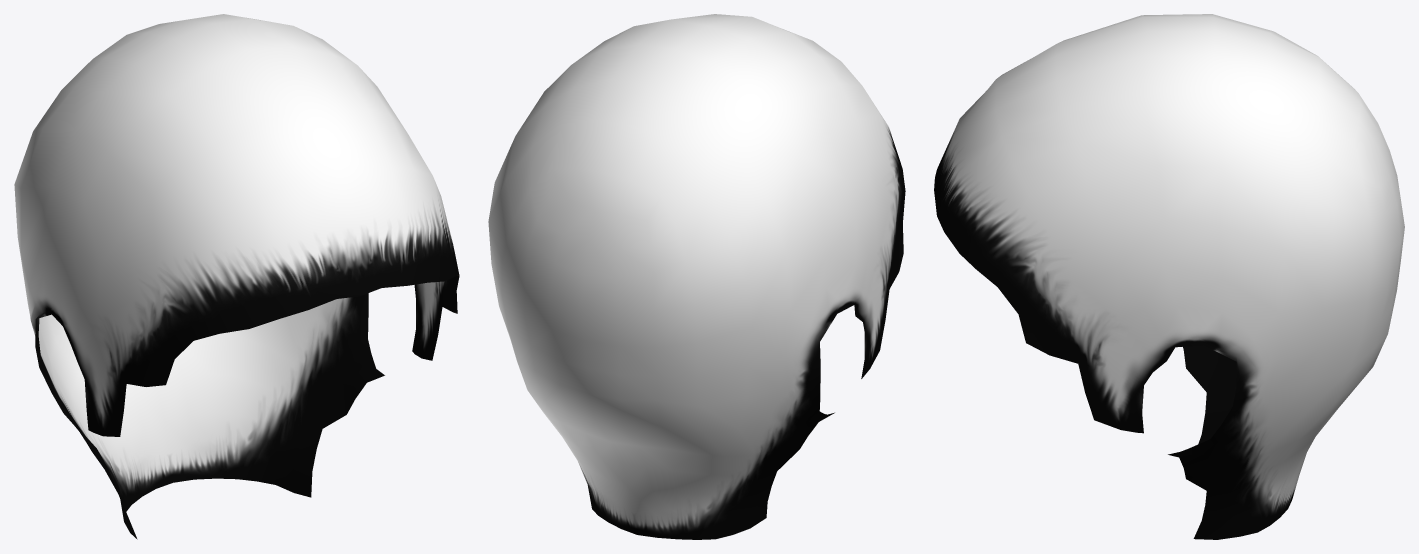
Rendered from hair 02.fbx.
3 renders of one model, left to right at view 1: azimuth 30°, elevation 25°; view 2: azimuth 150°, elevation 25°; view 3: azimuth 270°, elevation 25°, orthographic. The views are drawn at different scales.
Visible parts, largest first — view 1: Hair 02; view 2: Hair 02; view 3: Hair 02.
Boxes of the visible parts, x1,y1,x2,y2 form: Hair 02: [14, 14, 459, 539]; Hair 02: [488, 14, 905, 539]; Hair 02: [934, 14, 1404, 539].
Size of the model in its own units: 0.18 by 0.2438 by 0.2213.
Materials: 1 (1 with a texture image).
